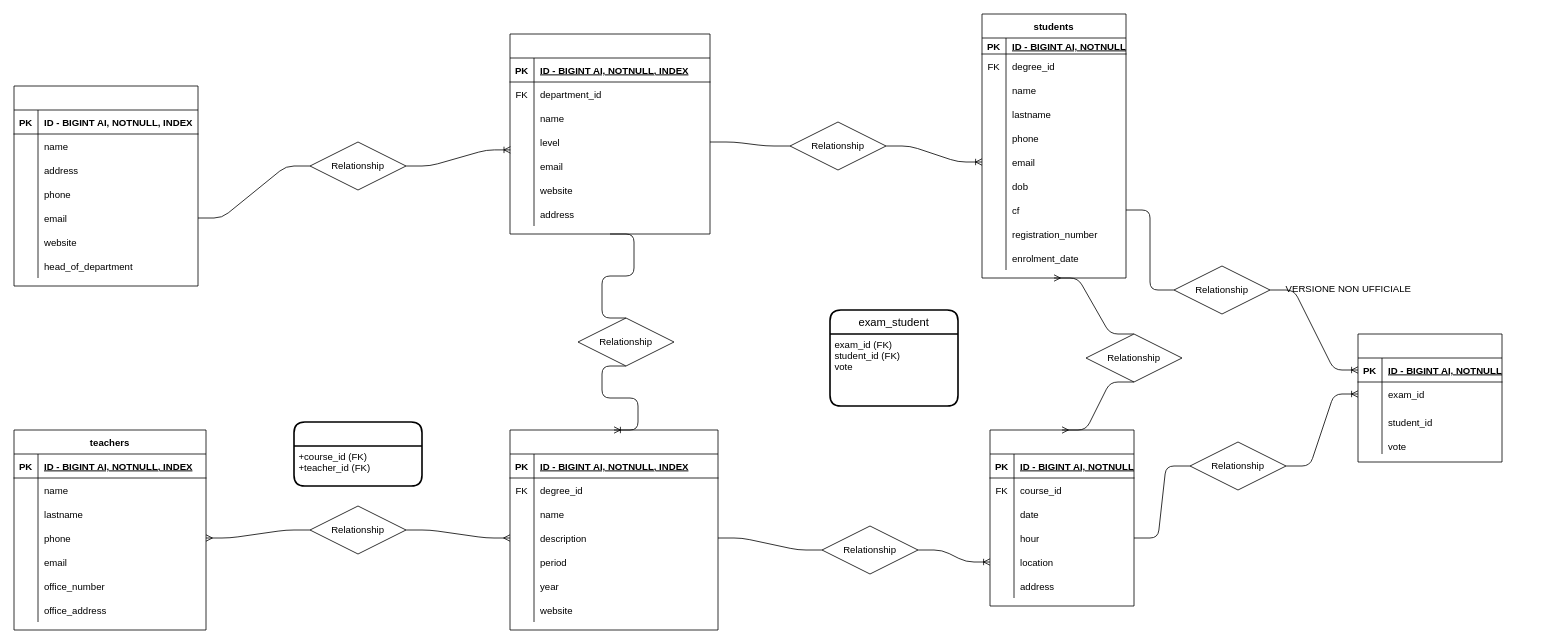
Some shapes in this 1550 by 644 pixel diagram are drawn without their labels. Each missing label, with the box of its shape:
course_teacher: (293, 421, 422, 486)
courses: (509, 429, 718, 630)
degrees: (509, 33, 710, 234)
departments: (13, 85, 198, 286)
exams: (989, 429, 1134, 606)
votes: (1357, 333, 1502, 462)
